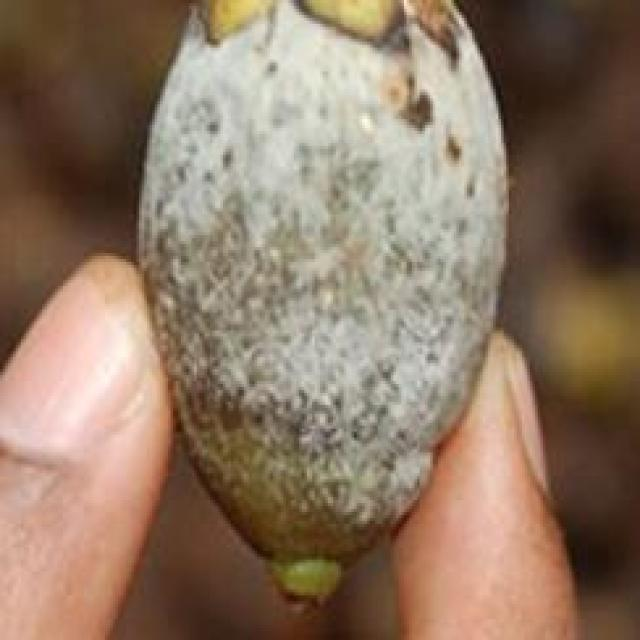damaged: (134, 0, 509, 613)
